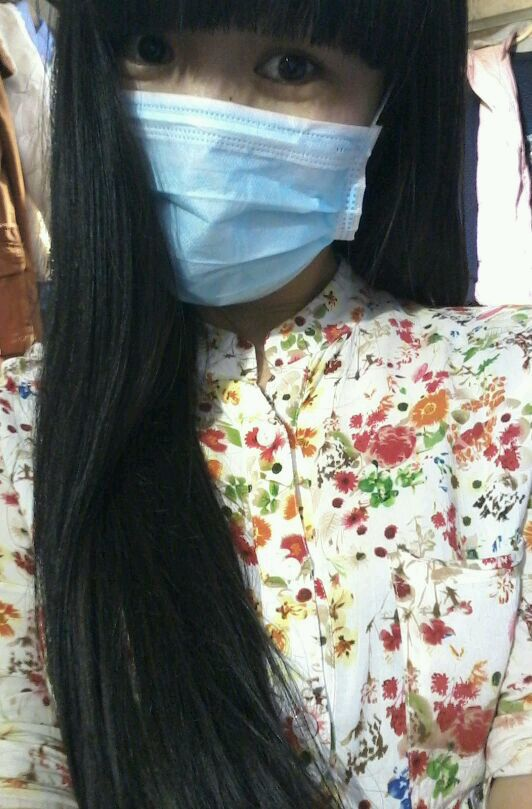face_mask: (102, 0, 378, 309)
